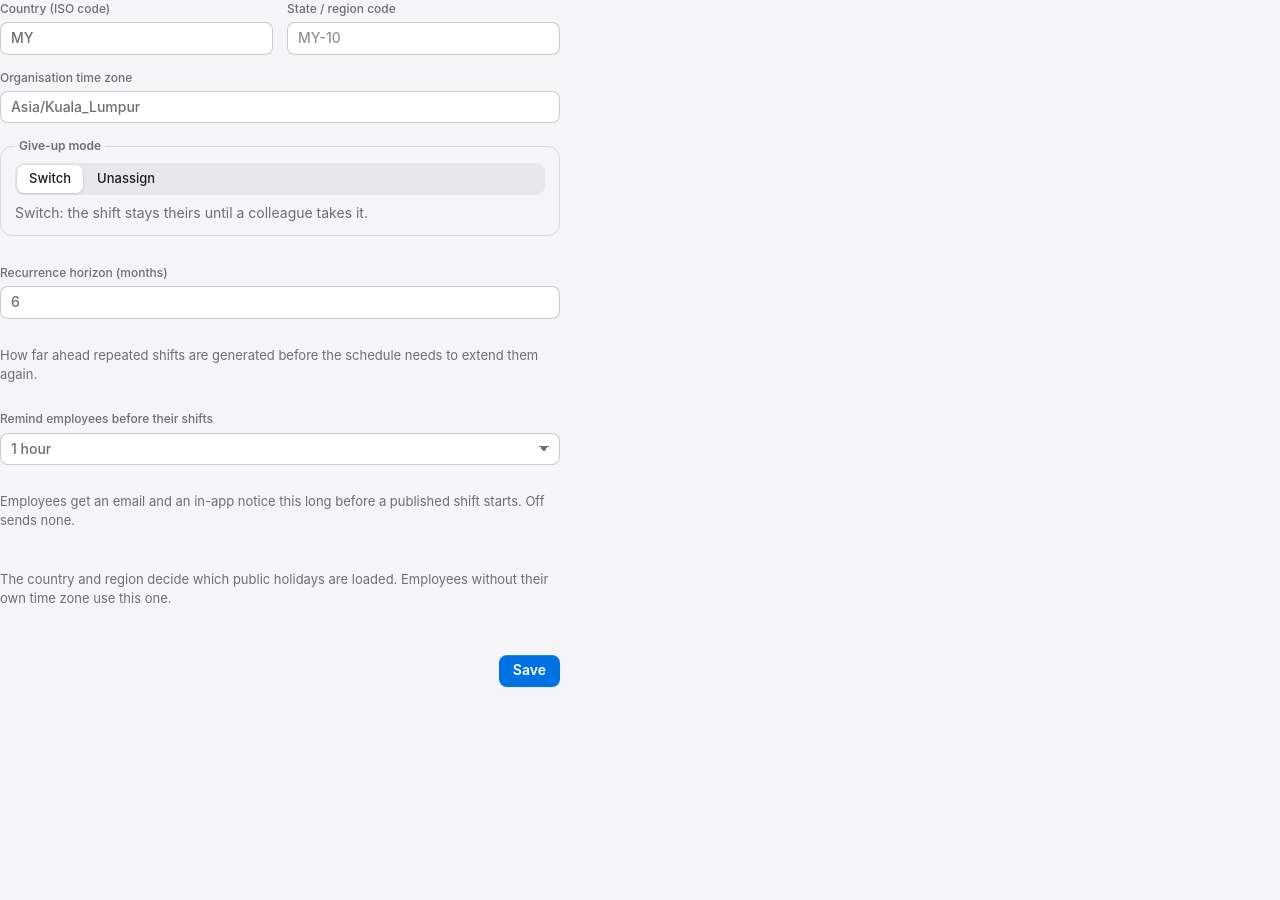
it: GeneralTab give-up mode › sends nothing when the switch to Unassign is declined (BR-07)
What coordinates should you click on to do the following:
click the radio button labelled "Unassign"
I would click on:
 (126, 178)
Its box is [97,170,155,186].
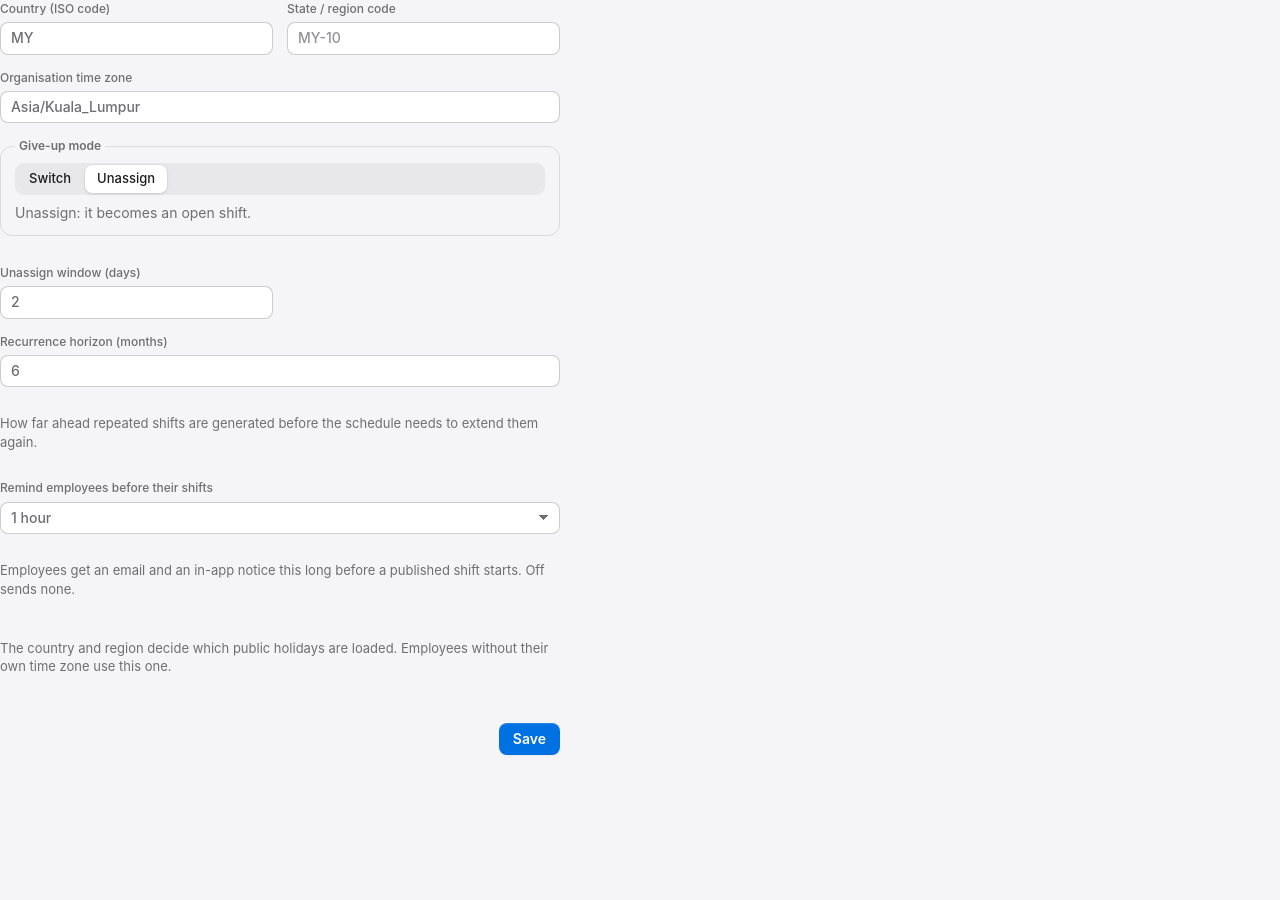
What coordinates should you click on to do the following:
click the button "Save"
I would click on:
 (529, 739)
Its box is [499,723,560,755].
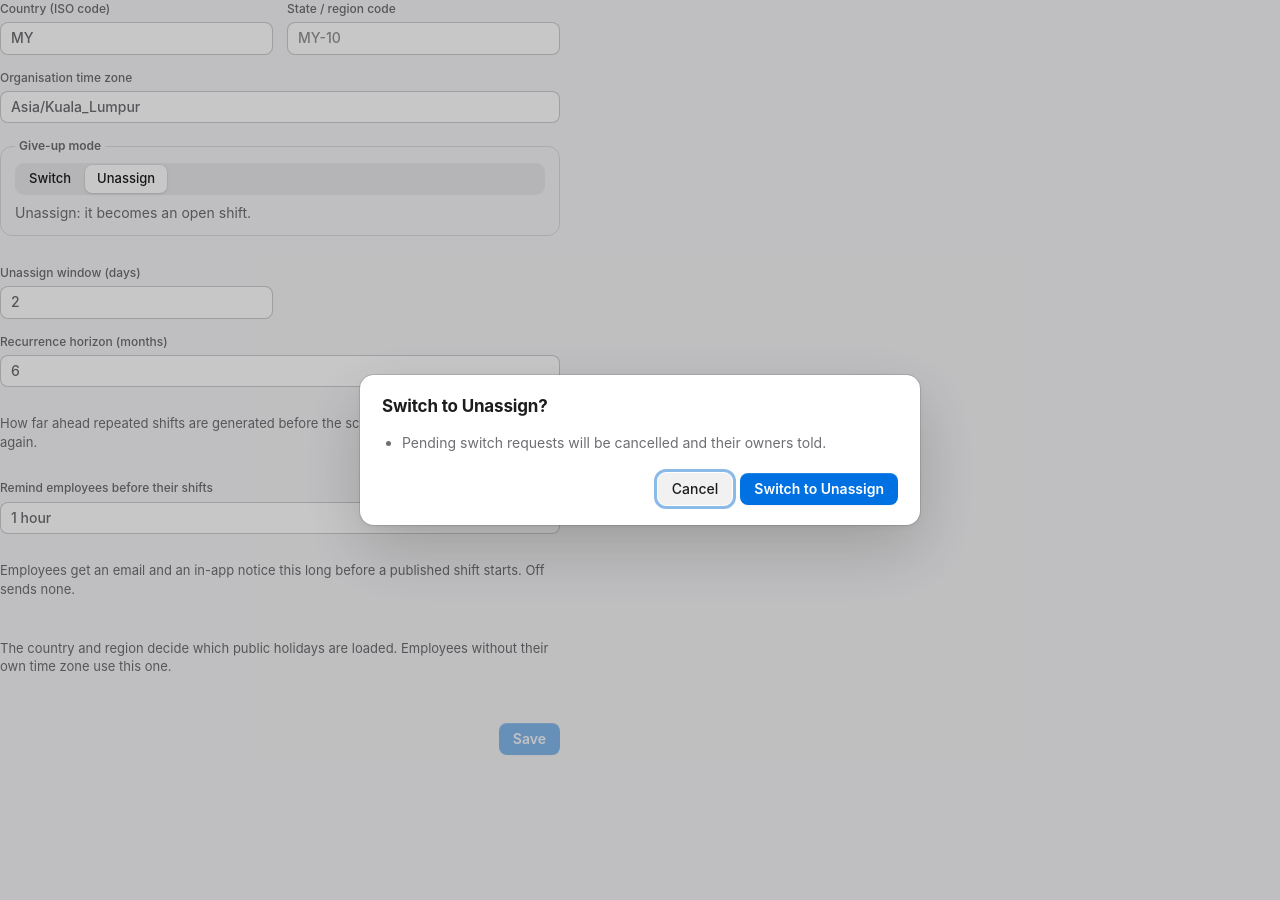
Now the list item "Pending switch requests will be cancelled and their owners told." is shown, box [402,433,898,453]
What coordinates should you click on to do the following:
click the button "Cancel"
I would click on:
 (695, 489)
Its box is [658,473,732,505].
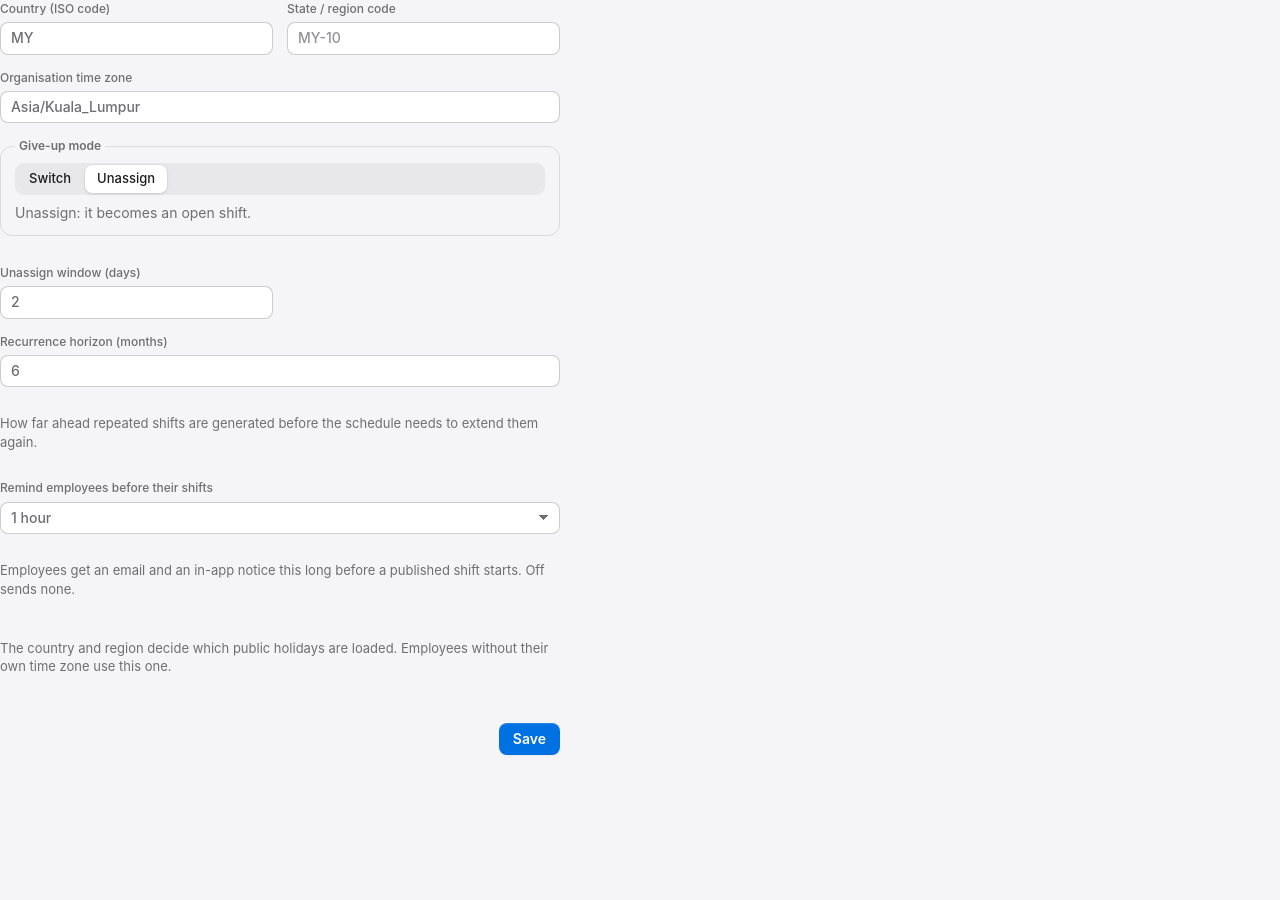
Now the dialog is gone
